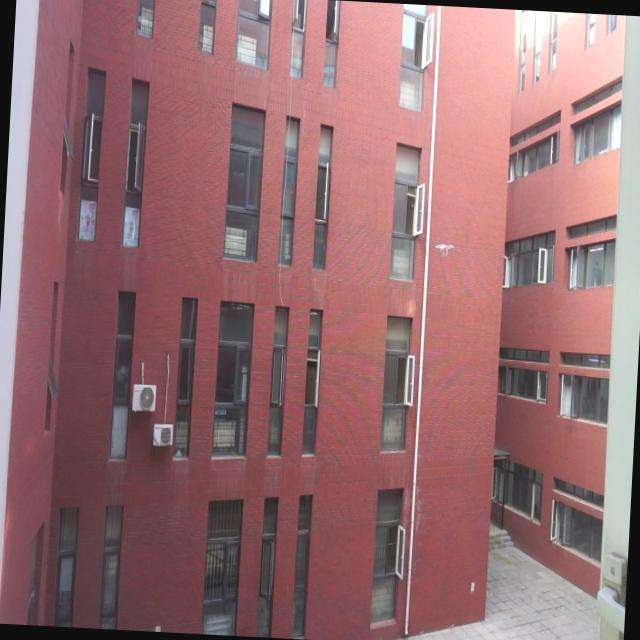drone: (434, 239, 454, 256)
